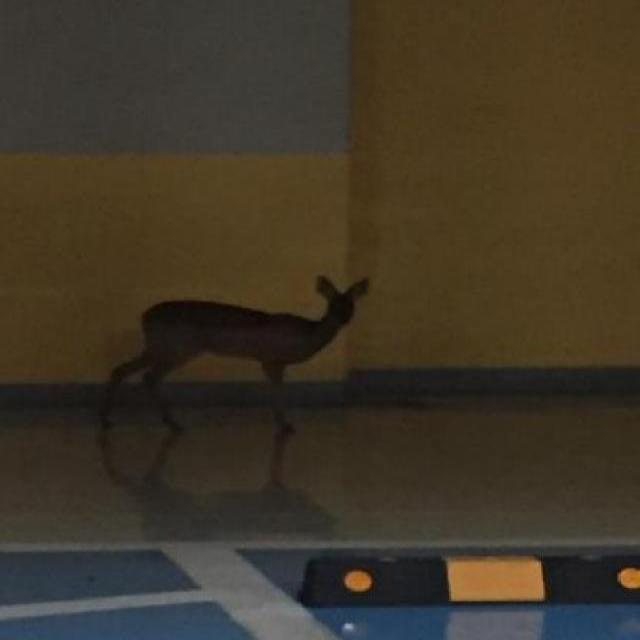deer: (76, 257, 398, 466)
